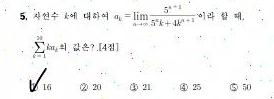choice: (27, 77, 39, 93)
not-choice: (128, 82, 139, 92), (79, 82, 89, 92), (178, 82, 188, 92), (228, 82, 238, 92)
